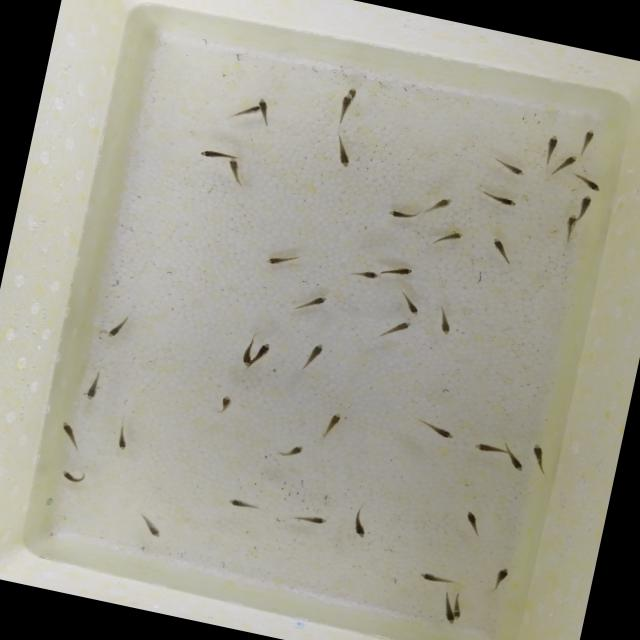fingerling: (412, 416, 458, 443), (346, 504, 375, 545), (261, 247, 308, 272), (450, 505, 486, 537), (412, 566, 461, 589), (431, 222, 466, 253), (300, 336, 328, 374), (546, 151, 578, 184), (54, 417, 86, 450), (134, 508, 166, 541), (484, 230, 516, 262), (286, 510, 330, 533), (270, 439, 308, 465), (52, 466, 98, 487), (384, 204, 424, 228), (536, 130, 560, 168), (328, 134, 354, 169), (575, 125, 600, 161), (489, 156, 531, 177), (482, 190, 522, 212), (84, 368, 108, 402), (381, 316, 412, 342), (298, 290, 330, 314), (320, 409, 344, 441), (223, 494, 264, 512), (424, 191, 453, 216), (198, 146, 238, 164), (104, 314, 129, 341), (486, 564, 509, 593), (112, 422, 132, 455), (436, 596, 458, 626), (397, 294, 424, 318), (560, 212, 583, 240), (434, 306, 454, 338), (528, 438, 548, 466), (381, 260, 412, 278), (255, 96, 278, 120), (212, 392, 233, 418), (350, 267, 384, 283), (574, 174, 602, 193), (472, 438, 498, 457), (238, 339, 256, 366), (503, 453, 527, 473), (232, 102, 258, 120), (336, 93, 352, 122), (452, 596, 468, 619), (578, 193, 593, 216), (226, 156, 239, 182), (256, 342, 270, 364), (348, 86, 357, 95)
